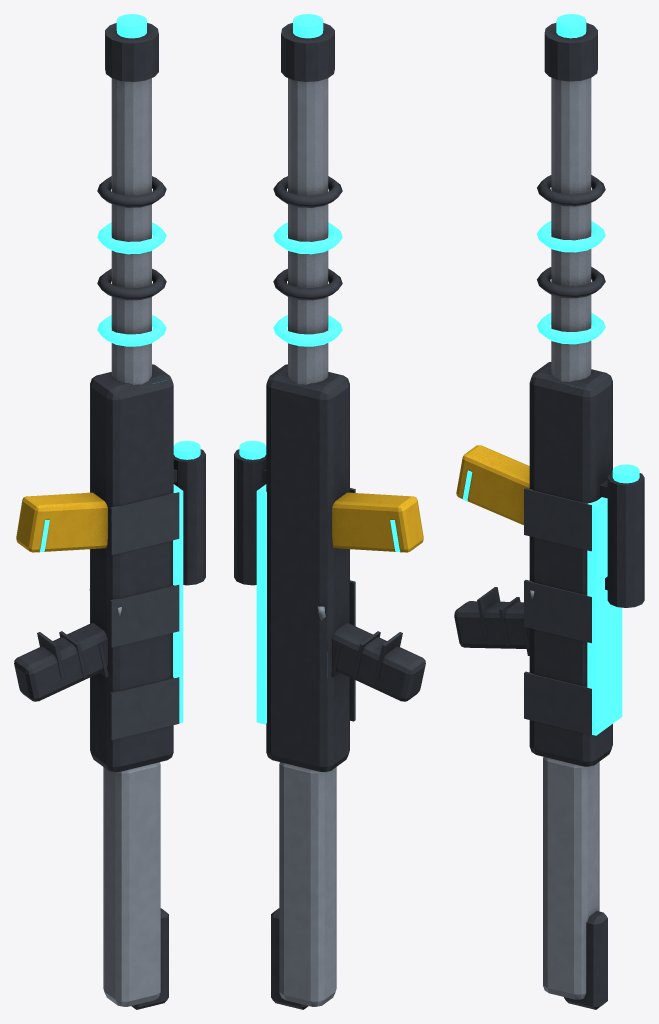
Rendered from 11_mechanical_ranged.fbx.
The picture shows the model from 3 angles, left to right: view 1: azimuth 30°, elevation 25°; view 2: azimuth 150°, elevation 25°; view 3: azimuth 330°, elevation 25°; orthographic projection.
Parts seen in each view (by area): view 1: Weapon; view 2: Weapon; view 3: Weapon.
Part boxes in pixels (<box>): Weapon: <box>14,14,205,1009</box>; Weapon: <box>234,14,425,1009</box>; Weapon: <box>454,14,644,1009</box>.
Size of the model in its own units: 27.25 by 140 by 8.74.
2 materials, 1 textured.
